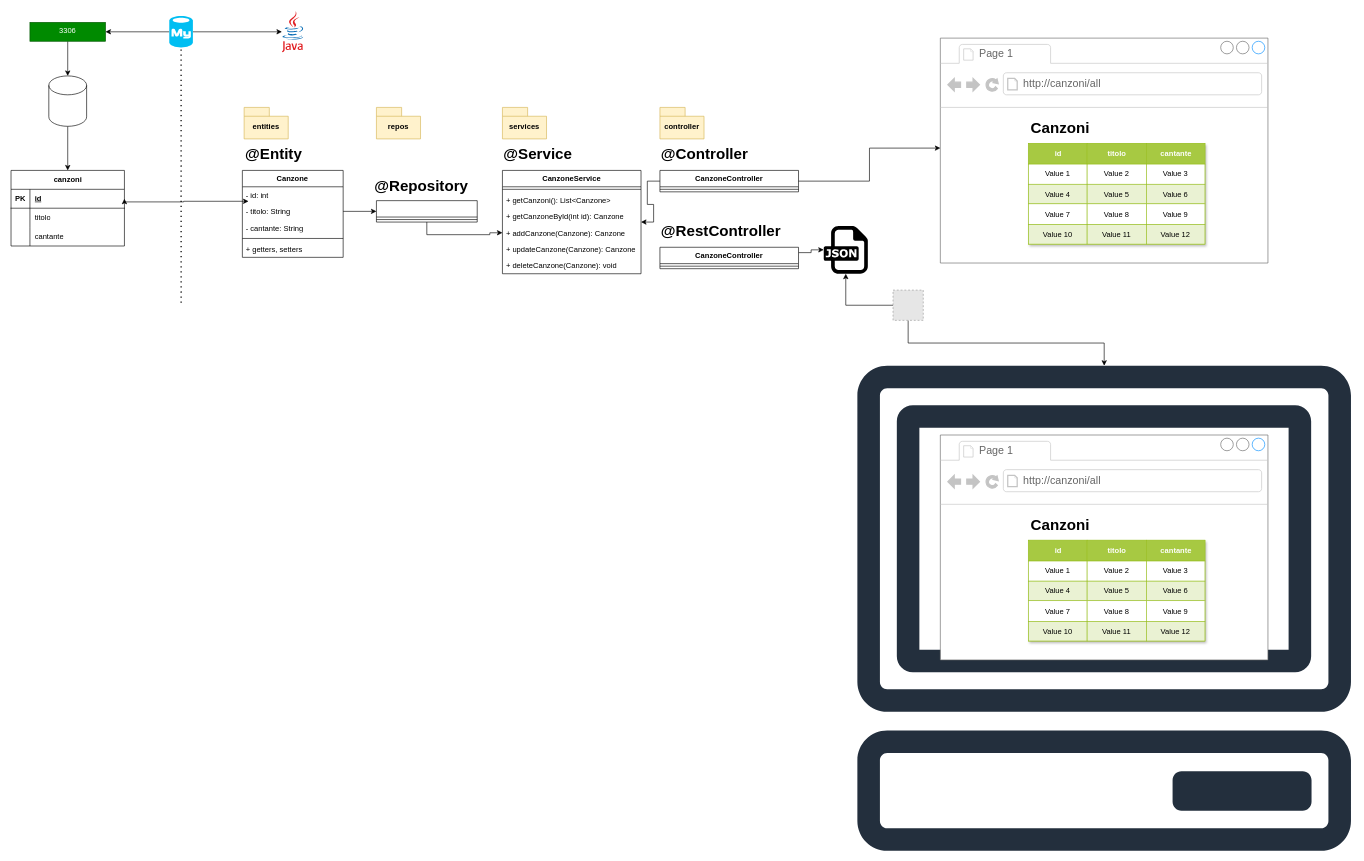
The diagram is 1364 pixels wide and 861 high, and some of its shapes have lost their labels. Grey dashed boxes stand in for pictures. The shapes that lost their labels are listed below. From the top down, each one's centre as x and y in pixels, then its label:
At pixel 67 100: "java".
At pixel 426 211: "CanzoneDAO".
